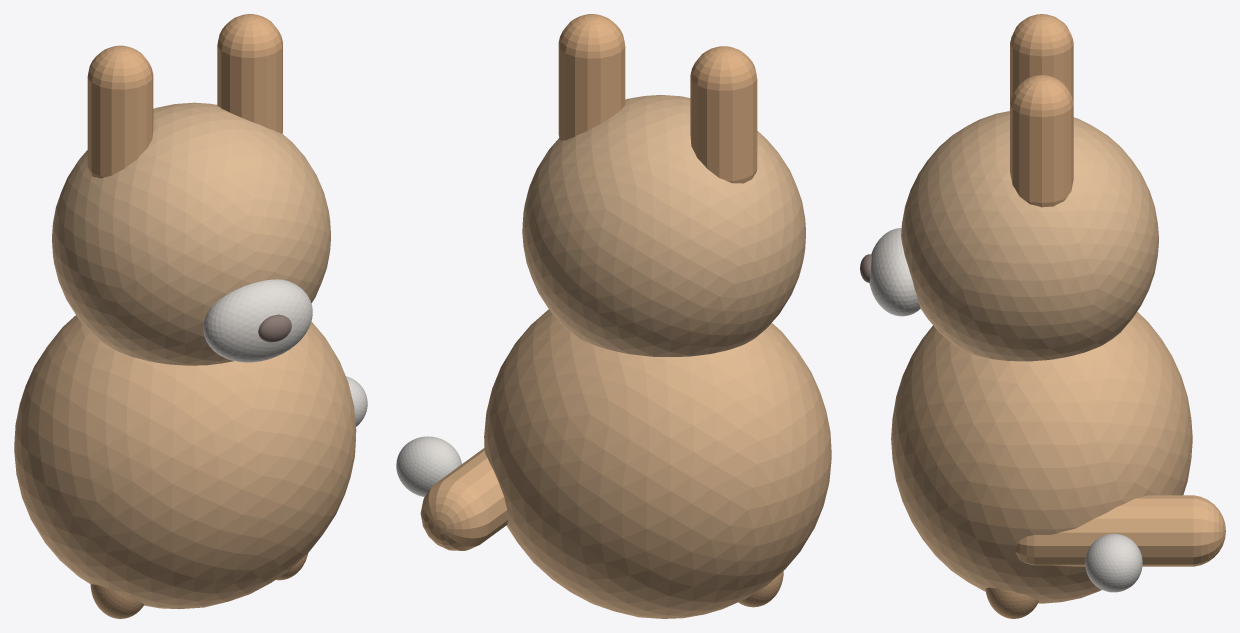
File: fox.glb
3 views of the same model, side by side, from view 1: azimuth 30°, elevation 25°; view 2: azimuth 150°, elevation 25°; view 3: azimuth 270°, elevation 25° (orthographic). The views are drawn at different scales.
Visible parts, largest first — view 1: world; view 2: world; view 3: world.
Part boxes in pixels (x1,y1,x2,y2): world: [14, 14, 367, 618]; world: [396, 14, 831, 618]; world: [860, 14, 1225, 618].
Size of the model in its own units: 1.1 by 1.6 by 0.9823.
